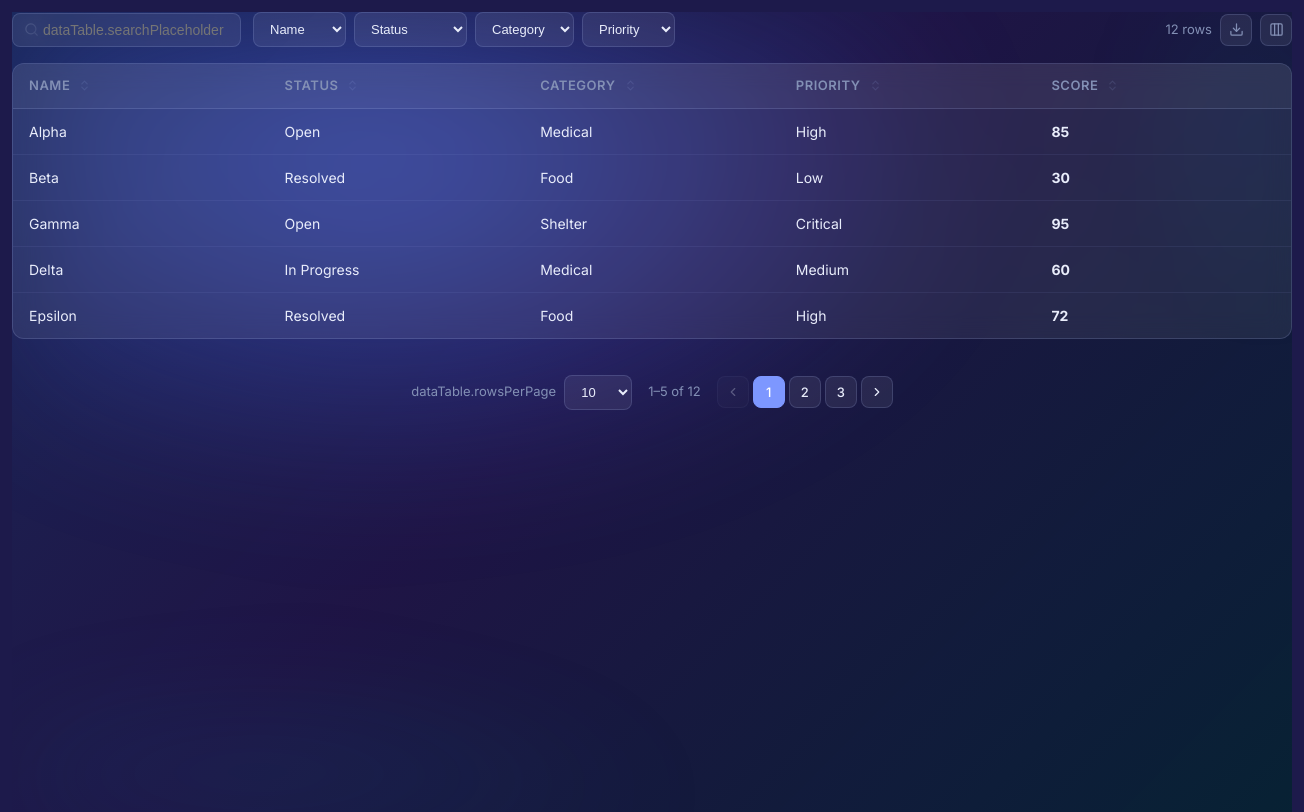
Test case: DataTable › Pagination › navigates to next page
Click the button named "dataTable.nextPage" at (877, 392), box [861, 376, 893, 408]
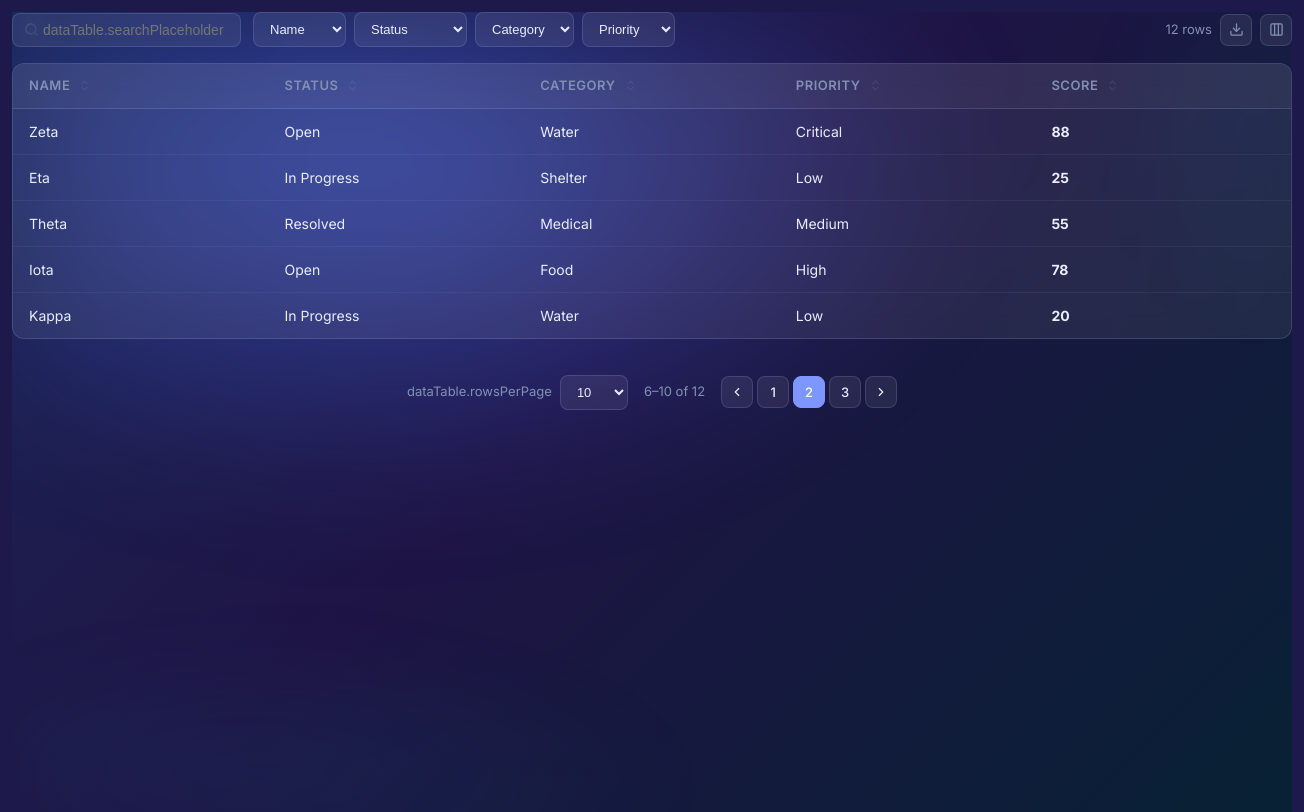
Check: the row with class "dt-tr" shows "Zeta", box [29, 122, 58, 140]
